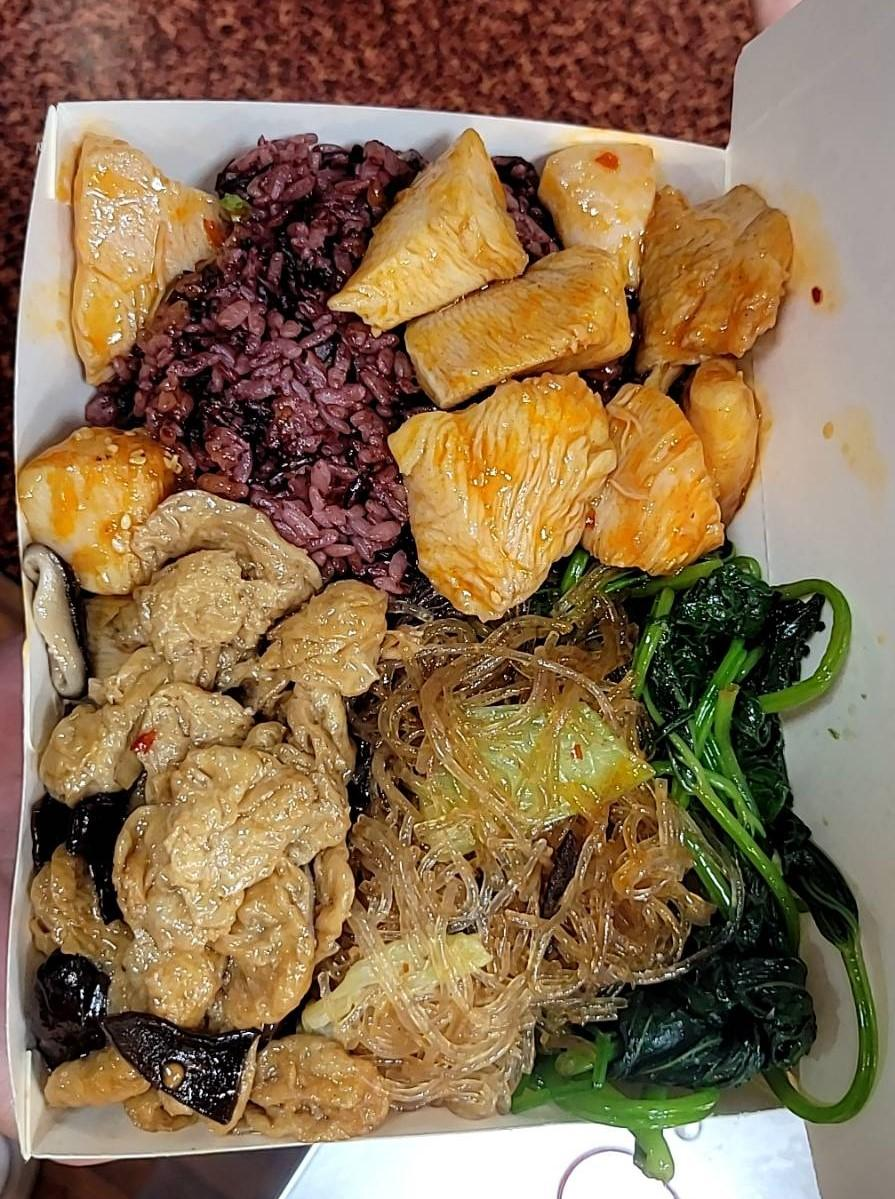big grilled chicken leg: (10, 35, 867, 1182)
braised fish: (104, 125, 639, 598)
braised fish fillet: (43, 523, 361, 1128), (543, 543, 873, 1102), (343, 613, 655, 1106)
braised pork: (368, 133, 793, 616), (23, 116, 221, 579)
